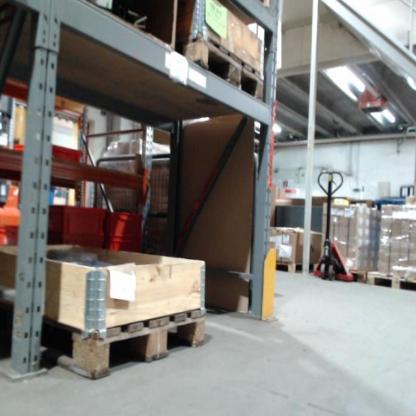pallets: (36, 303, 209, 380), (179, 27, 267, 103), (365, 270, 415, 294), (273, 260, 314, 274)
